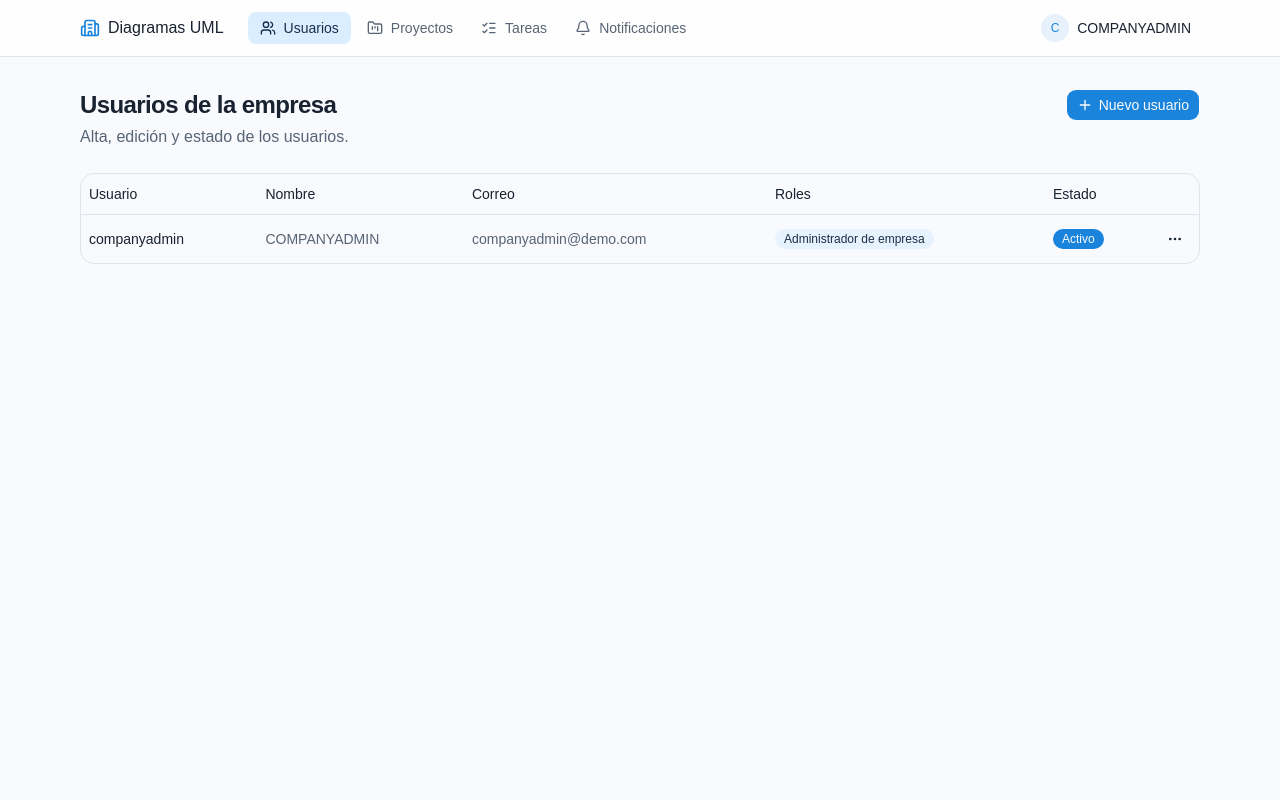
CU-03 Gestionar usuarios de empresa › no deja crear un usuario sin ningún rol
Click the button "Nuevo usuario".
click(1133, 105)  # box left=1066, top=89, right=1200, bottom=121
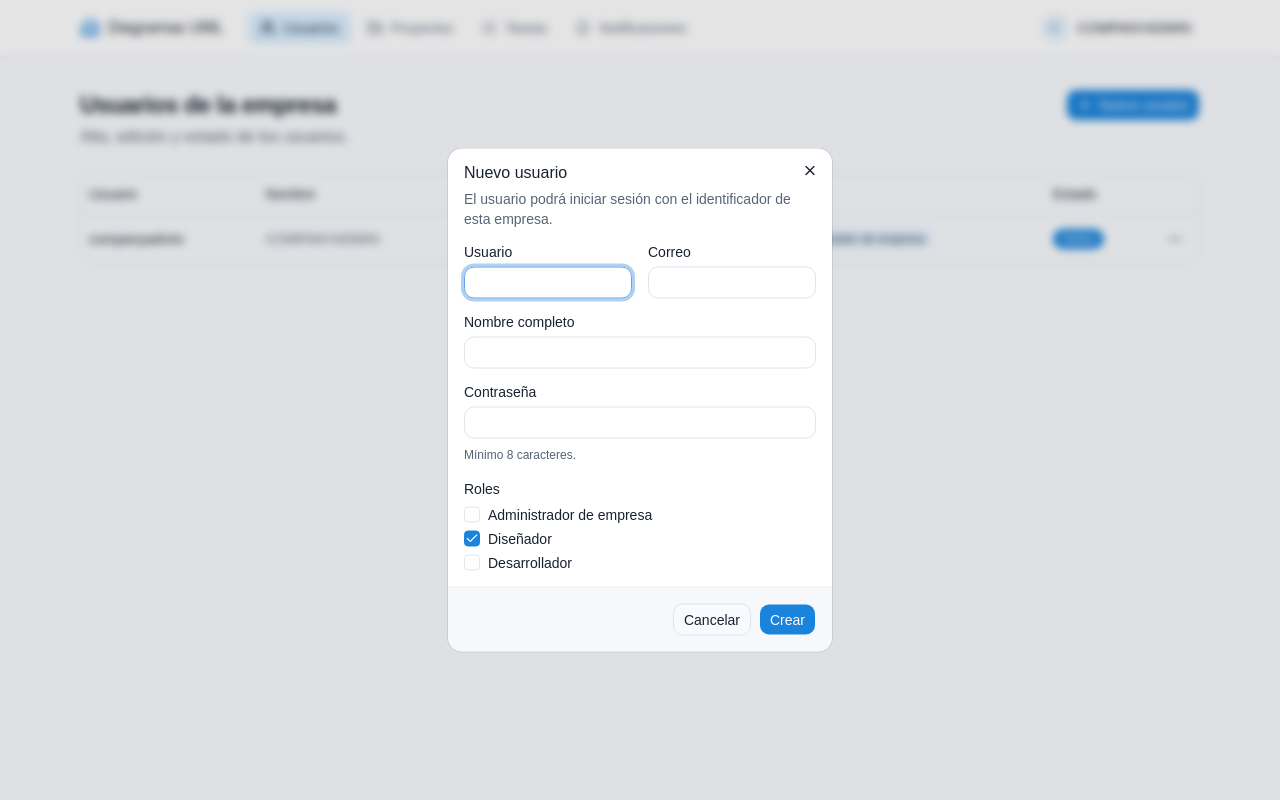
Click the checkbox named "Diseñador" next to "Diseñador".
click(472, 538)  # box left=464, top=530, right=480, bottom=546
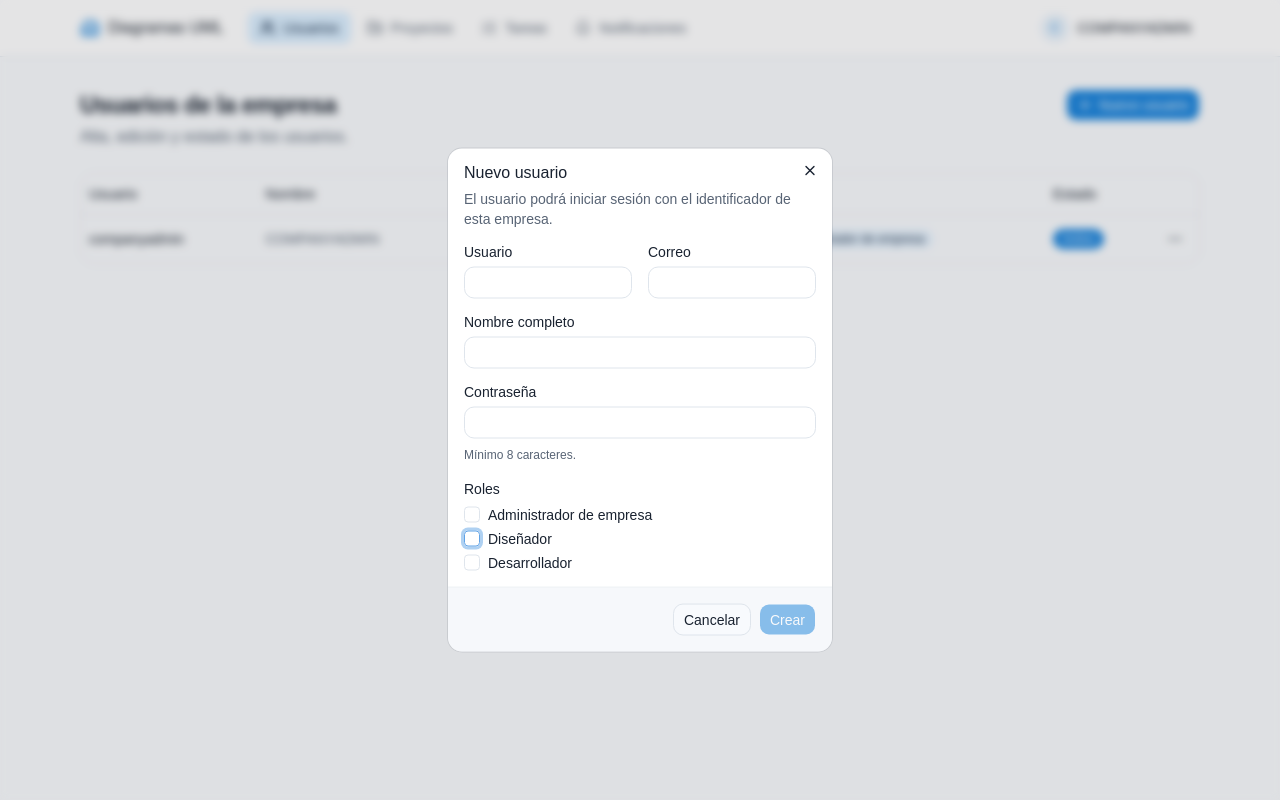
Now the button "Crear" is disabled, box left=759, top=604, right=816, bottom=636
